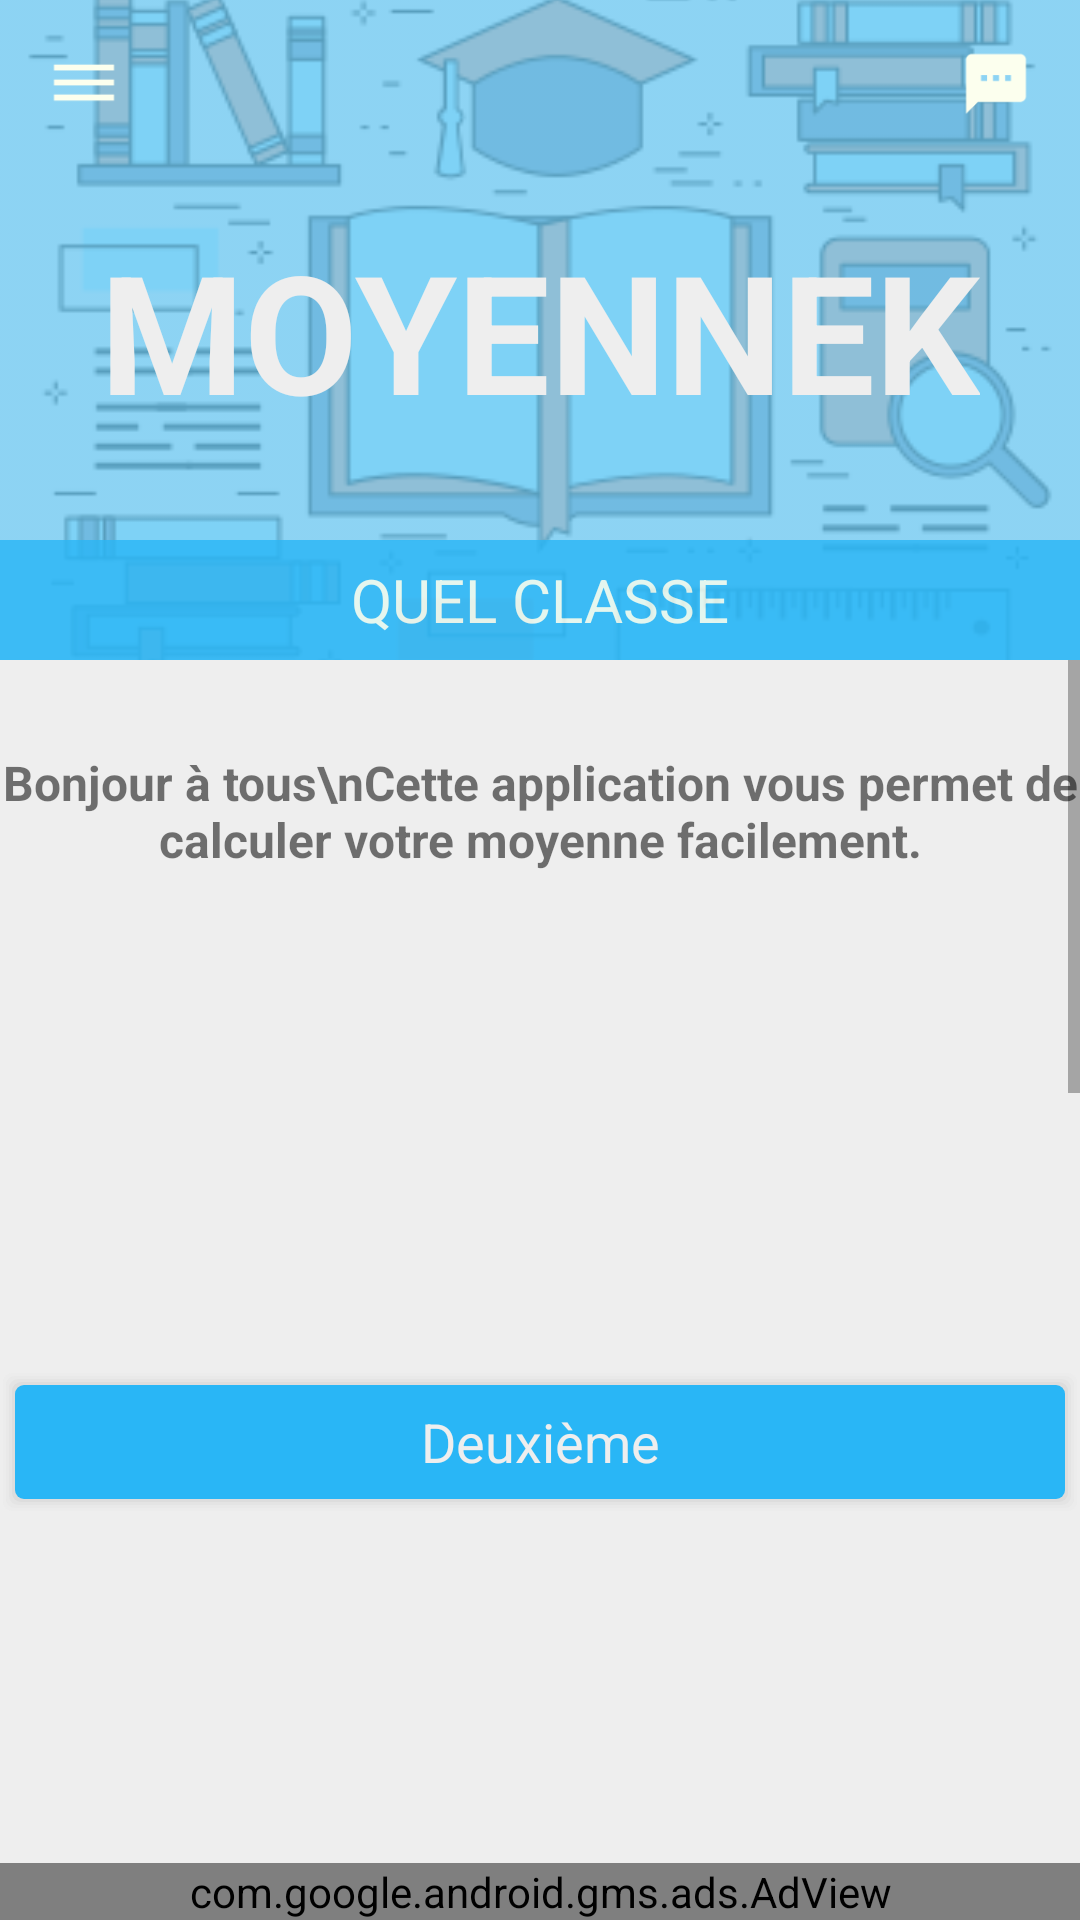

Named icons in this screenshot (1080x1920) and their centers, point (x, y):
list vecture: point (84, 84)
